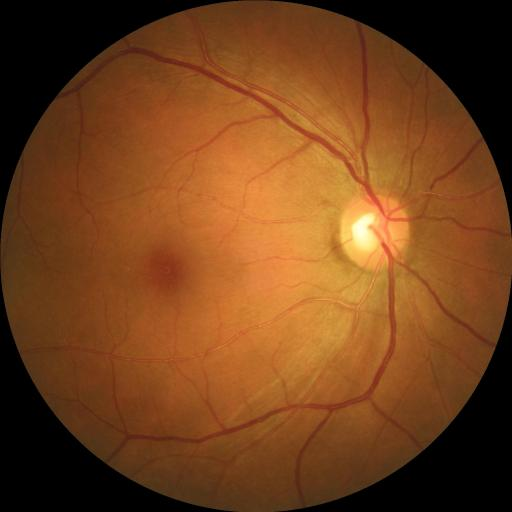Optic Cup: (352, 214, 386, 251)
Optic Disc: (339, 195, 410, 272)
